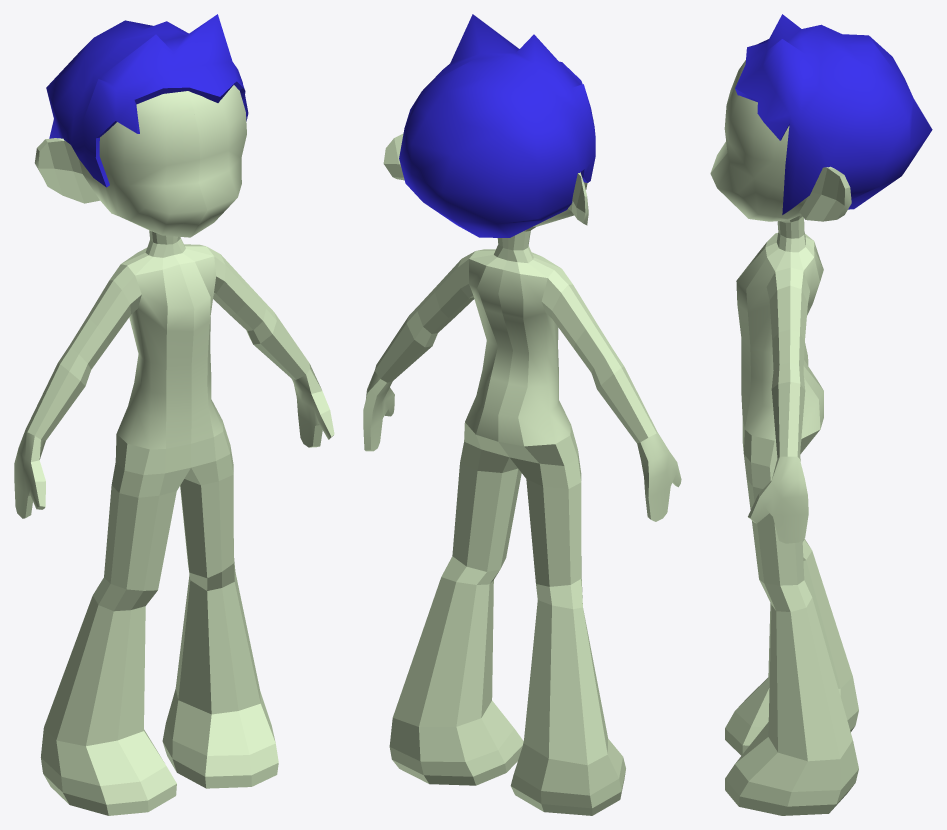
The model's file is gabriel.fbx.
3 views of the same model, side by side, from view 1: azimuth 30°, elevation 25°; view 2: azimuth 150°, elevation 25°; view 3: azimuth 270°, elevation 25° (orthographic).
Visible parts, largest first — view 1: cuerpo, pelo; view 2: cuerpo, pelo; view 3: cuerpo, pelo.
Part boxes in pixels (x1=…): cuerpo: x1=14, y1=85, x2=334, y2=815; pelo: x1=46, y1=14, x2=248, y2=187; cuerpo: x1=363, y1=120, x2=681, y2=815; pelo: x1=399, y1=14, x2=595, y2=237; cuerpo: x1=710, y1=60, x2=858, y2=815; pelo: x1=735, y1=14, x2=932, y2=214.
Size of the model in its own units: 62.09 by 150 by 40.14.
